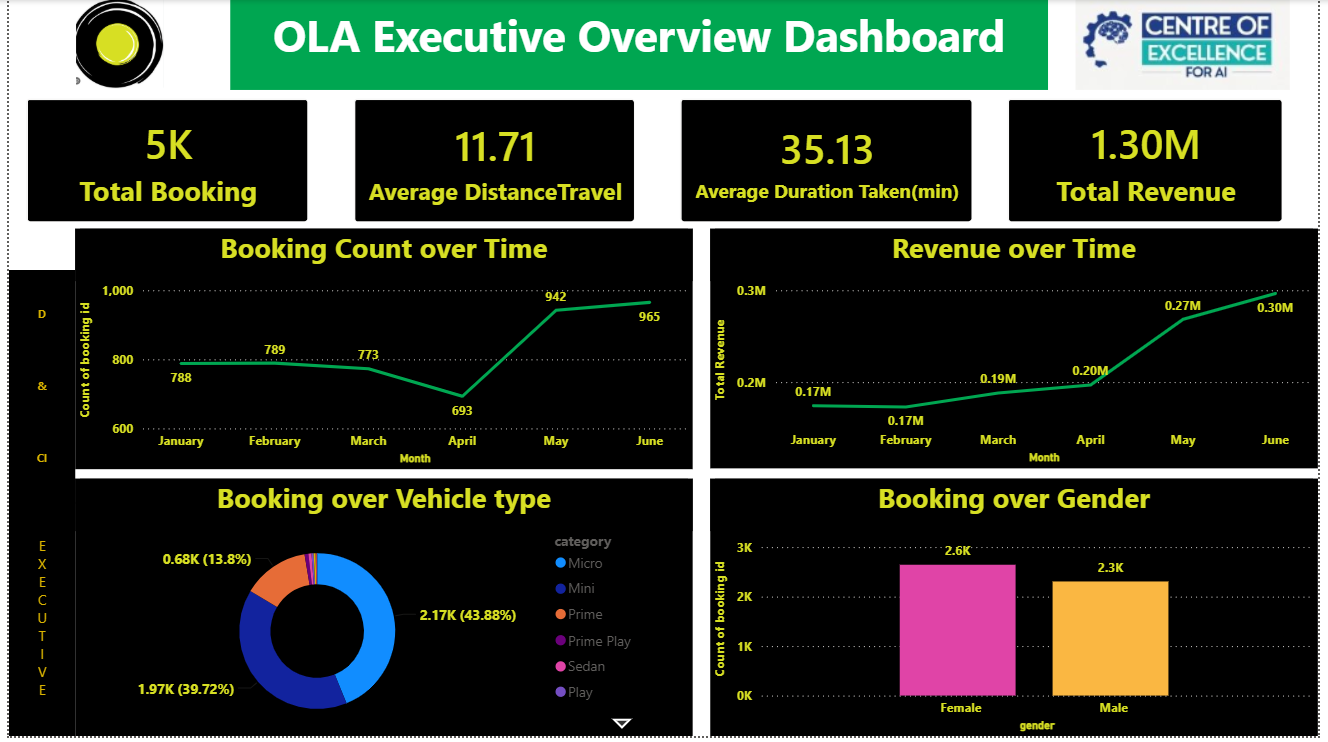

The dashboard page shown, as its layout file describes it:
{"tool":"powerbi","page":{"name":"Executive Overview","canvas":[1280,720],"ordinal":0},"visuals":[{"type":"cardVisual","fields":{"Data":["Data.Total Booking"]},"box":[35.5,88,325.3,135.7],"z":0},{"type":"cardVisual","fields":{"Data":["Data.Average DistanceTravel"]},"box":[346.1,89.3,322.8,135.7],"z":1000},{"type":"cardVisual","fields":{"Data":["Data.Average Duration Taken"]},"box":[668.9,88,320.4,135.7],"z":2000},{"type":"cardVisual","fields":{"Data":["Data.Total Revenue"]},"box":[959.9,88,303.3,135.7],"z":3000},{"type":"textbox","box":[216.4,0,799.7,88],"z":4000},{"type":"lineChart","title":"Booking Count over Time","fields":{"Y":["CountNonNull(Data.booking id)"],"Category":["Data.booking_date_time.Variation.Date Hierarchy.Month"]},"box":[52.6,223.8,616.3,234.8],"z":5000},{"type":"lineChart","title":"Revenue over Time","fields":{"Y":["Data.Total Revenue"],"Category":["Data.booking_date_time.Variation.Date Hierarchy.Month"]},"box":[686,223.8,594.3,234.8],"z":6000},{"type":"donutChart","title":"Booking over Vehicle type","fields":{"Y":["CountNonNull(Data.booking id)"],"Category":["Data.category"]},"box":[52.6,468.3,616.3,251.9],"z":7000},{"type":"clusteredColumnChart","title":"Booking over Gender","fields":{"Category":["Data.gender"],"Y":["CountNonNull(Data.booking id)"]},"box":[686,468.3,594.3,251.9],"z":8000},{"type":"image","box":[1016.2,0,264.1,88],"z":9000},{"type":"actionButton","box":[0,501.4,52,50],"z":10000},{"type":"actionButton","box":[0,563.7,52,50],"z":11000},{"type":"image","box":[0,0,216.4,88],"z":12000},{"type":"actionButton","box":[0,437.8,52,40],"z":13000}]}

Visuals, with their boxes in screenshot pixels (x1, y1, x2, y2), scaled from the page's 1280x720 canvas onto the 1328x742 screenshot:
cardVisual - Data.Total Booking: 37, 91, 374, 231
cardVisual - Data.Average DistanceTravel: 359, 92, 694, 232
cardVisual - Data.Average Duration Taken: 694, 91, 1026, 231
cardVisual - Data.Total Revenue: 996, 91, 1311, 231
textbox: 225, 0, 1054, 91
"Booking Count over Time" lineChart: 55, 231, 694, 473
"Revenue over Time" lineChart: 712, 231, 1327, 473
"Booking over Vehicle type" donutChart: 55, 483, 694, 741
"Booking over Gender" clusteredColumnChart: 712, 483, 1327, 741
image: 1054, 0, 1327, 91
actionButton: 0, 517, 54, 568
actionButton: 0, 581, 54, 632
image: 0, 0, 225, 91
actionButton: 0, 451, 54, 492
